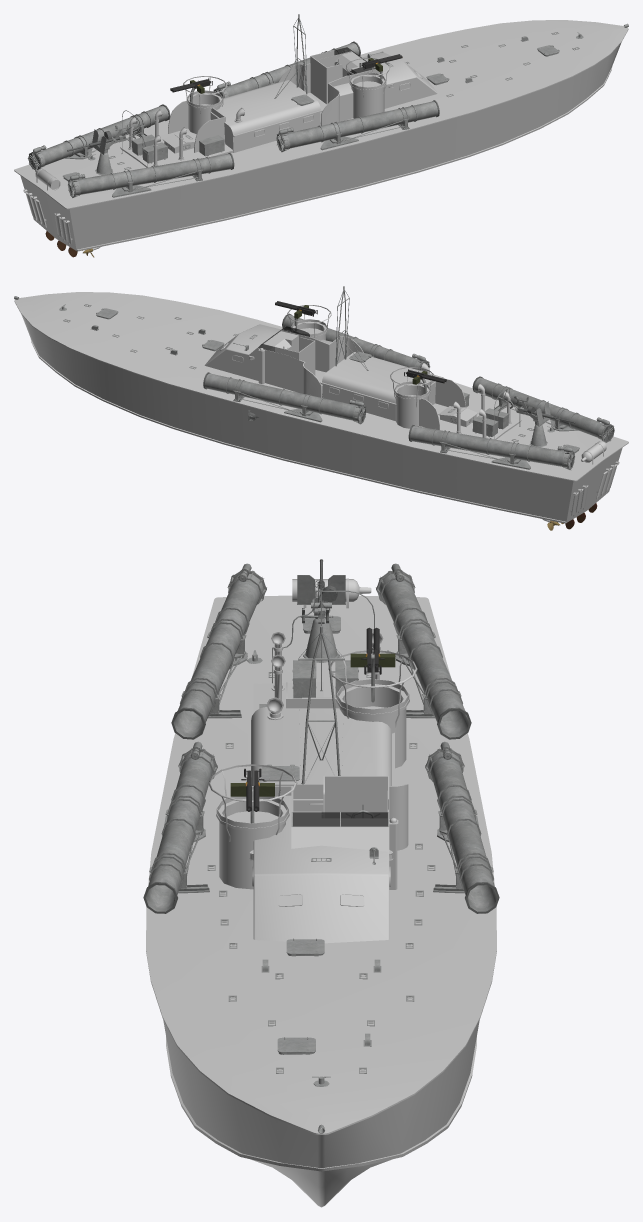
3 views of the same model, one above another, from view 1: azimuth 30°, elevation 25°; view 2: azimuth 150°, elevation 25°; view 3: azimuth 270°, elevation 25° (orthographic). The views are drawn at different scales.
Parts seen in each view (by area): view 1: Elco_80ft_PT_Hull, 533mm_Torpedo_tube, 533mm_Torpedo_tube.001, 533mm_Torpedo_tube.002, Metal_Props, 533mm_Torpedo_tube.004, AmmoBoxes, 20mm_Oerlikon_mount, 20mm_Oerlikon_gun; view 2: Elco_80ft_PT_Hull, 533mm_Torpedo_tube.002, 533mm_Torpedo_tube.004, 533mm_Torpedo_tube, Metal_Props, 533mm_Torpedo_tube.001, AmmoBoxes, 20mm_Oerlikon_mount, 20mm_Oerlikon_gun; view 3: Elco_80ft_PT_Hull, 533mm_Torpedo_tube, 533mm_Torpedo_tube.002, Metal_Props, 533mm_Torpedo_tube.004, 533mm_Torpedo_tube.001, 20mm_Oerlikon_mount, Glass, AmmoBoxes, 50-Cal_MachineGun_gun.001, 50-Cal_MachineGun_gun.
Boxes of the visible parts, x1=… form: Elco_80ft_PT_Hull: x1=14, y1=20, x2=628, y2=251; 533mm_Torpedo_tube: x1=68, y1=152, x2=234, y2=198; 533mm_Torpedo_tube.001: x1=276, y1=100, x2=439, y2=152; 533mm_Torpedo_tube.002: x1=27, y1=104, x2=170, y2=169; Metal_Props: x1=63, y1=14, x2=628, y2=181; 533mm_Torpedo_tube.004: x1=213, y1=41, x2=360, y2=97; AmmoBoxes: x1=131, y1=134, x2=224, y2=163; 20mm_Oerlikon_mount: x1=92, y1=129, x2=117, y2=175; 20mm_Oerlikon_gun: x1=67, y1=124, x2=137, y2=151; Elco_80ft_PT_Hull: x1=14, y1=292, x2=628, y2=523; 533mm_Torpedo_tube.002: x1=408, y1=425, x2=574, y2=470; 533mm_Torpedo_tube.004: x1=203, y1=372, x2=366, y2=424; 533mm_Torpedo_tube: x1=472, y1=376, x2=614, y2=442; Metal_Props: x1=14, y1=286, x2=579, y2=453; 533mm_Torpedo_tube.001: x1=282, y1=313, x2=430, y2=371; AmmoBoxes: x1=463, y1=392, x2=509, y2=437; 20mm_Oerlikon_mount: x1=525, y1=401, x2=550, y2=447; 20mm_Oerlikon_gun: x1=508, y1=396, x2=575, y2=423; Elco_80ft_PT_Hull: x1=146, y1=578, x2=496, y2=1207; 533mm_Torpedo_tube: x1=171, y1=563, x2=266, y2=739; 533mm_Torpedo_tube.002: x1=376, y1=563, x2=471, y2=739; Metal_Props: x1=207, y1=590, x2=435, y2=1133; 533mm_Torpedo_tube.004: x1=425, y1=741, x2=499, y2=913; 533mm_Torpedo_tube.001: x1=143, y1=741, x2=217, y2=913; 20mm_Oerlikon_mount: x1=297, y1=575, x2=345, y2=662; Glass: x1=293, y1=812, x2=387, y2=826; AmmoBoxes: x1=259, y1=660, x2=358, y2=708; 50-Cal_MachineGun_gun.001: x1=350, y1=627, x2=395, y2=674; 50-Cal_MachineGun_gun: x1=230, y1=768, x2=274, y2=811.
Size of the model in its own units: 2402 by 711 by 630.
